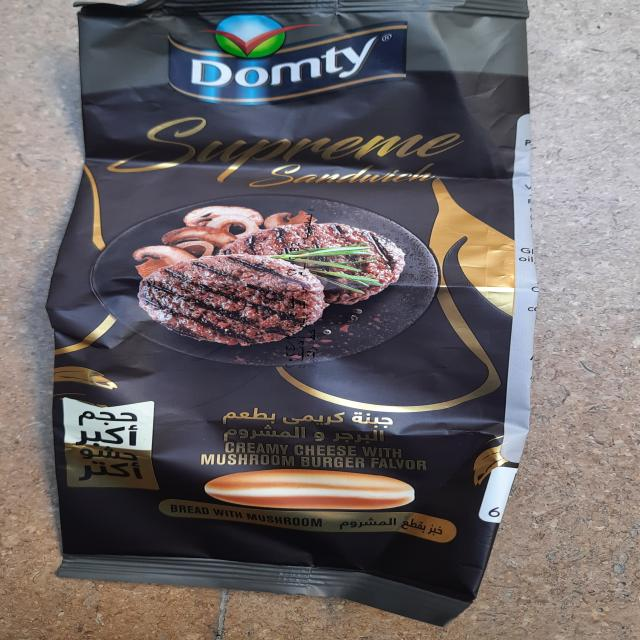plastic: (43, 0, 535, 620)
